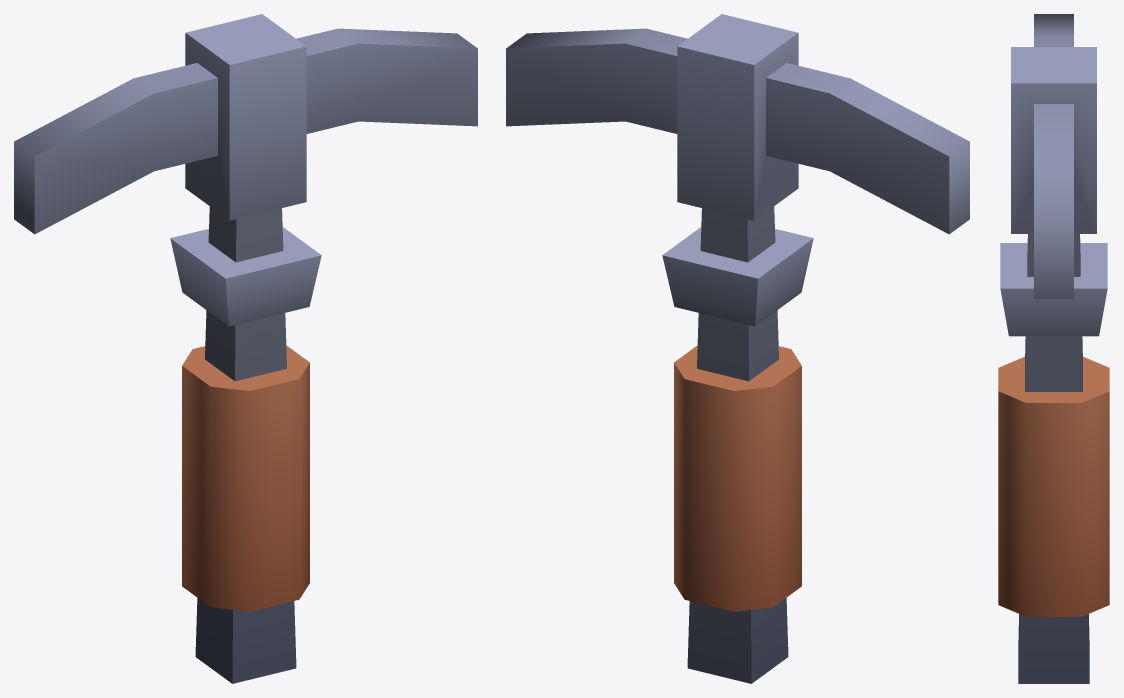
The model's file is tool-pickaxe-upgraded.glb.
3 renders of one model, left to right at view 1: azimuth 30°, elevation 25°; view 2: azimuth 150°, elevation 25°; view 3: azimuth 270°, elevation 25°, orthographic. The views are drawn at different scales.
Visible parts, largest first — view 1: tool-pickaxe-upgraded; view 2: tool-pickaxe-upgraded; view 3: tool-pickaxe-upgraded.
Part boxes in pixels (x1=…): tool-pickaxe-upgraded: x1=14, y1=14, x2=477, y2=683; tool-pickaxe-upgraded: x1=506, y1=14, x2=969, y2=683; tool-pickaxe-upgraded: x1=998, y1=14, x2=1109, y2=683.
Size of the model in its own units: 0.1786 by 0.24 by 0.04.
